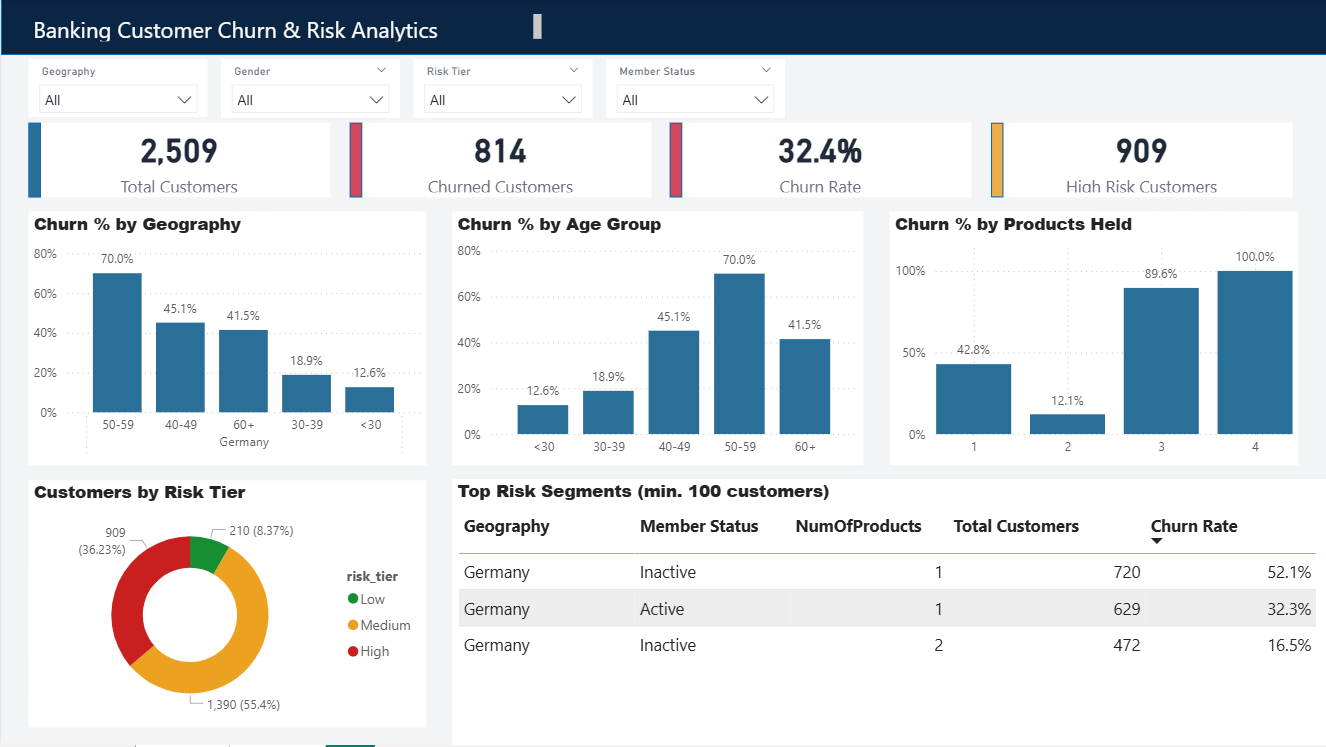

What the dashboard file says about the page in this screenshot:
{"tool":"powerbi","page":{"name":"Page 1","canvas":[1280,720],"ordinal":0},"visuals":[{"type":"clusteredColumnChart","title":"Churn % by Age Group","fields":{"Category":["Churn.age_group"],"Y":["Churn.Churn Rate"]},"box":[435,205,397,245],"z":0},{"type":"card","fields":{"Values":["Churn.Total Customers"]},"box":[26,119,291,72],"z":1000},{"type":"card","fields":{"Values":["Churn.Churned Customers"]},"box":[336,119,291,72],"z":2000},{"type":"card","fields":{"Values":["Churn.Churn Rate"]},"box":[646,119,291,72],"z":3000},{"type":"card","fields":{"Values":["Churn.High Risk Customers"]},"box":[956,119,291,72],"z":4000},{"type":"clusteredColumnChart","title":"Churn % by Geography","fields":{"Category":["Churn.Geography","Churn.age_group","Churn.NumOfProducts","Churn.Member Status"],"Y":["Churn.Churn Rate"]},"box":[26,205,384,245],"z":5000},{"type":"clusteredColumnChart","title":"Churn % by Products Held","fields":{"Category":["Churn.NumOfProducts"],"Y":["Churn.Churn Rate"]},"box":[858,205,394,245],"z":6000},{"type":"donutChart","title":"Customers by Risk Tier","fields":{"Category":["Churn.risk_tier"],"Y":["Churn.Total Customers"]},"box":[26,464,384,238],"z":7000},{"type":"tableEx","title":"Top Risk Segments (min. 100 customers)","fields":{"Values":["Churn.Geography","Churn.Member Status","Churn.NumOfProducts","Churn.Total Customers","Churn.Churn Rate"]},"box":[435.5,463.3,844.5,257],"z":8000},{"type":"shape","box":[0,0,1280,54],"z":9000},{"type":"textbox","box":[26.5,9.7,500,36.2],"z":10000},{"type":"shape","box":[26,119,12,72],"z":15000},{"type":"shape","box":[336,119,12,72],"z":16000},{"type":"shape","box":[646,119,12,72],"z":17000},{"type":"shape","box":[956,119,12,72],"z":18000},{"type":"slicer","fields":{"Values":["Churn.Geography"]},"box":[26,58,173,56],"z":18001},{"type":"slicer","fields":{"Values":["Churn.Gender"]},"box":[212,58,172.5,56.7],"z":18002},{"type":"slicer","fields":{"Values":["Churn.risk_tier"]},"box":[398,58,172.5,56.7],"z":18003},{"type":"slicer","fields":{"Values":["Churn.Member Status"]},"box":[584,58,172.5,56.7],"z":18004}]}

Visuals, with their boxes in screenshot pixels (x1, y1, x2, y2), scaled from the page's 1280x720 canvas onto the 1326x747 screenshot:
"Churn % by Age Group" clusteredColumnChart: left=451, top=213, right=862, bottom=467
card - Churn.Total Customers: left=27, top=123, right=328, bottom=198
card - Churn.Churned Customers: left=348, top=123, right=650, bottom=198
card - Churn.Churn Rate: left=669, top=123, right=971, bottom=198
card - Churn.High Risk Customers: left=990, top=123, right=1292, bottom=198
"Churn % by Geography" clusteredColumnChart: left=27, top=213, right=425, bottom=467
"Churn % by Products Held" clusteredColumnChart: left=889, top=213, right=1297, bottom=467
"Customers by Risk Tier" donutChart: left=27, top=481, right=425, bottom=728
"Top Risk Segments (min. 100 customers)" tableEx: left=451, top=481, right=1325, bottom=746
shape: left=0, top=0, right=1325, bottom=56
textbox: left=27, top=10, right=545, bottom=48
shape: left=27, top=123, right=39, bottom=198
shape: left=348, top=123, right=361, bottom=198
shape: left=669, top=123, right=682, bottom=198
shape: left=990, top=123, right=1003, bottom=198
slicer - Churn.Geography: left=27, top=60, right=206, bottom=118
slicer - Churn.Gender: left=220, top=60, right=398, bottom=119
slicer - Churn.risk_tier: left=412, top=60, right=591, bottom=119
slicer - Churn.Member Status: left=605, top=60, right=784, bottom=119
